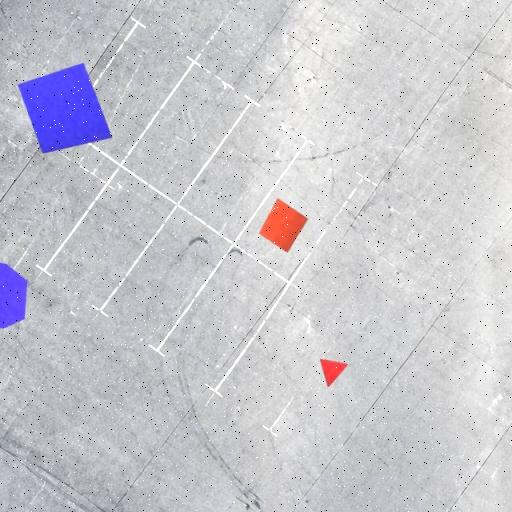BLUE_SQUARE: (17, 62, 113, 154)
RED_SQUARE: (259, 198, 309, 252)
